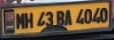character: (14, 11, 24, 29), (35, 10, 45, 27), (24, 11, 33, 29), (63, 9, 72, 26), (44, 10, 53, 26), (55, 10, 64, 26), (74, 8, 83, 24), (91, 7, 100, 23), (83, 8, 91, 24), (99, 6, 107, 22)
